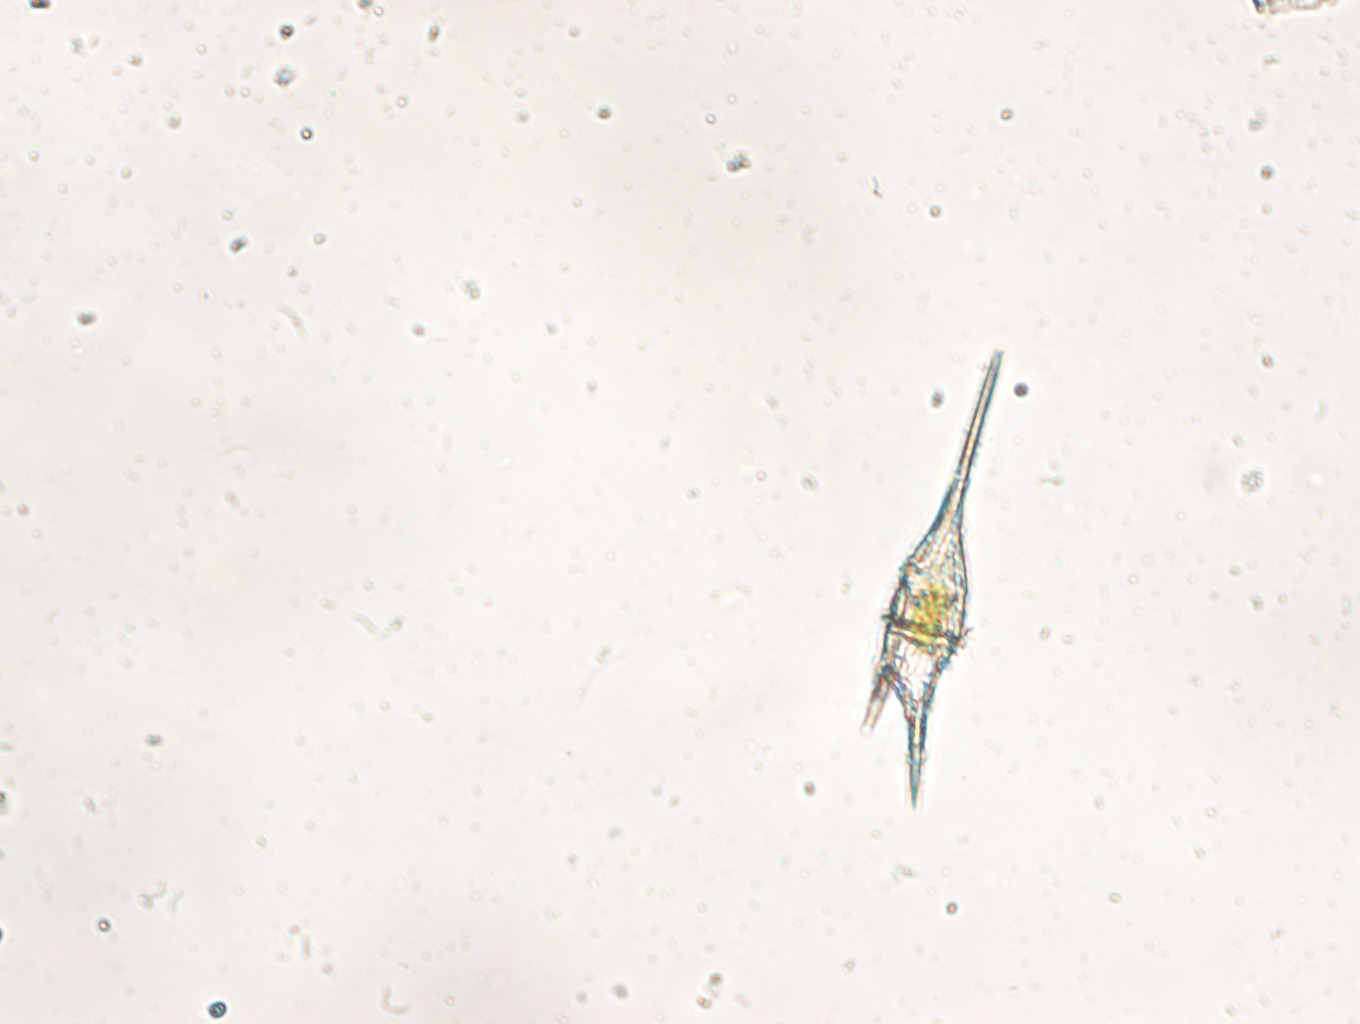ceratium furca: (861, 340, 1008, 813)
